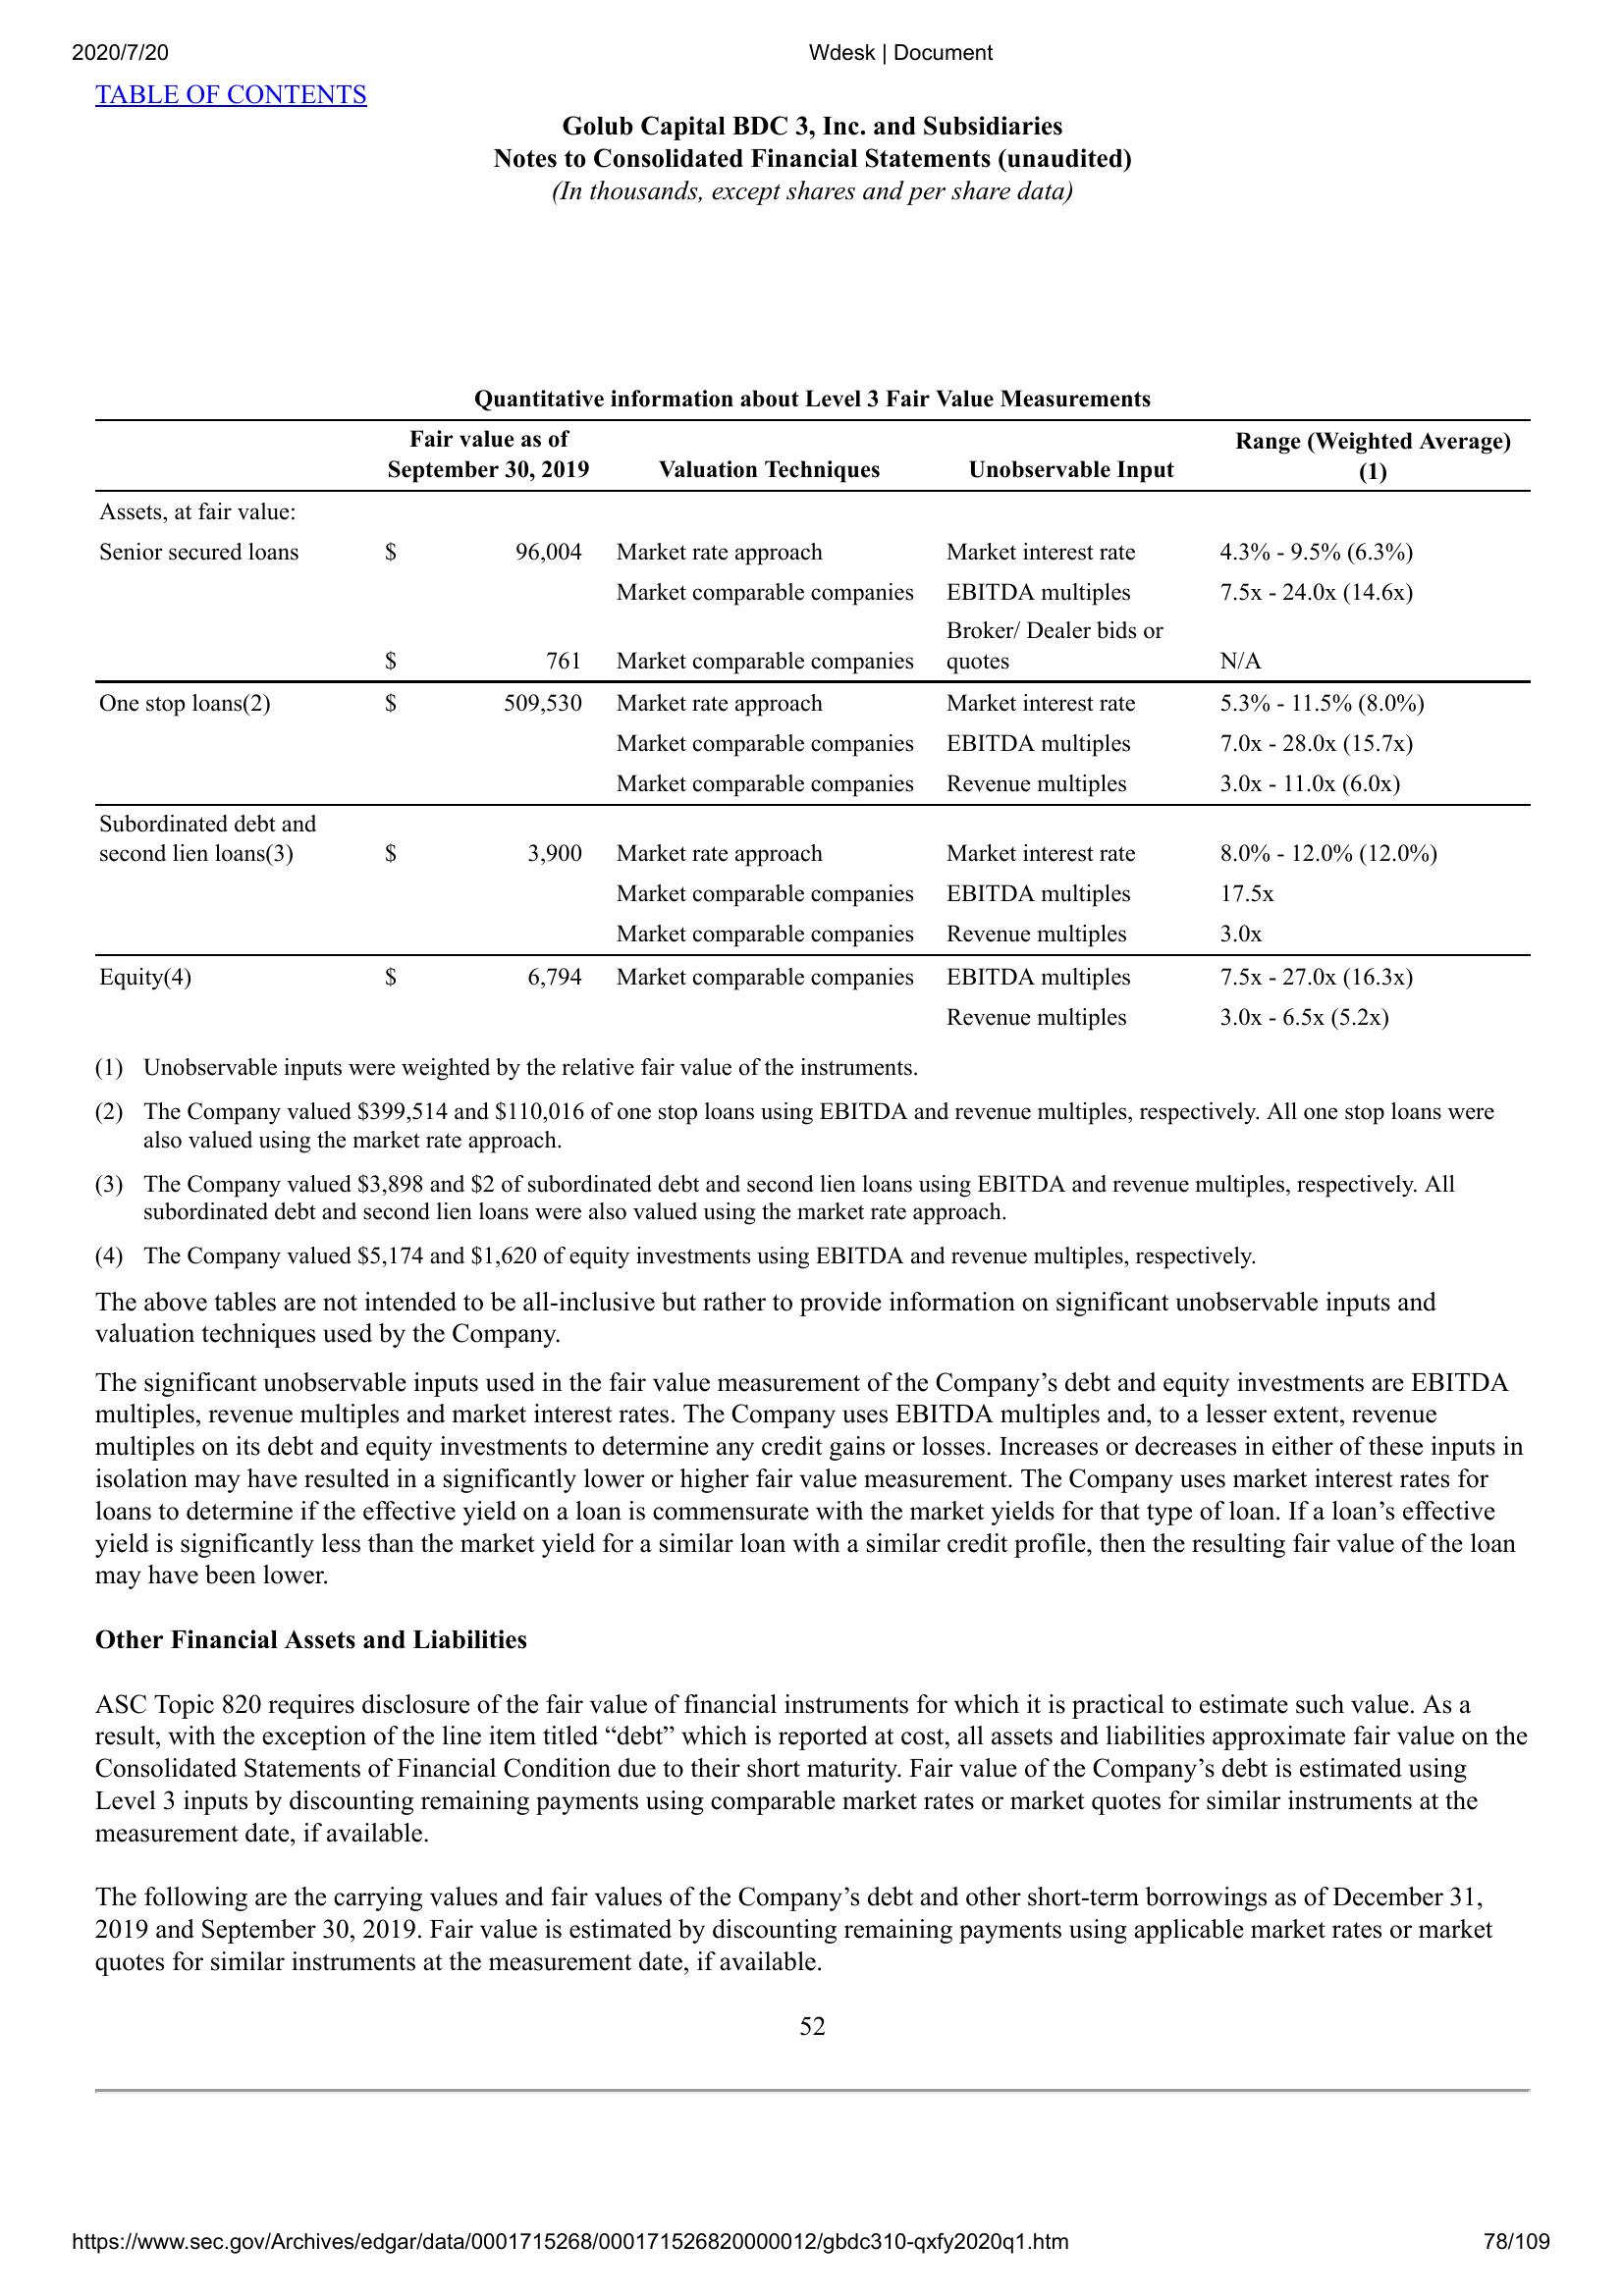table: (95, 383, 1533, 1039)
